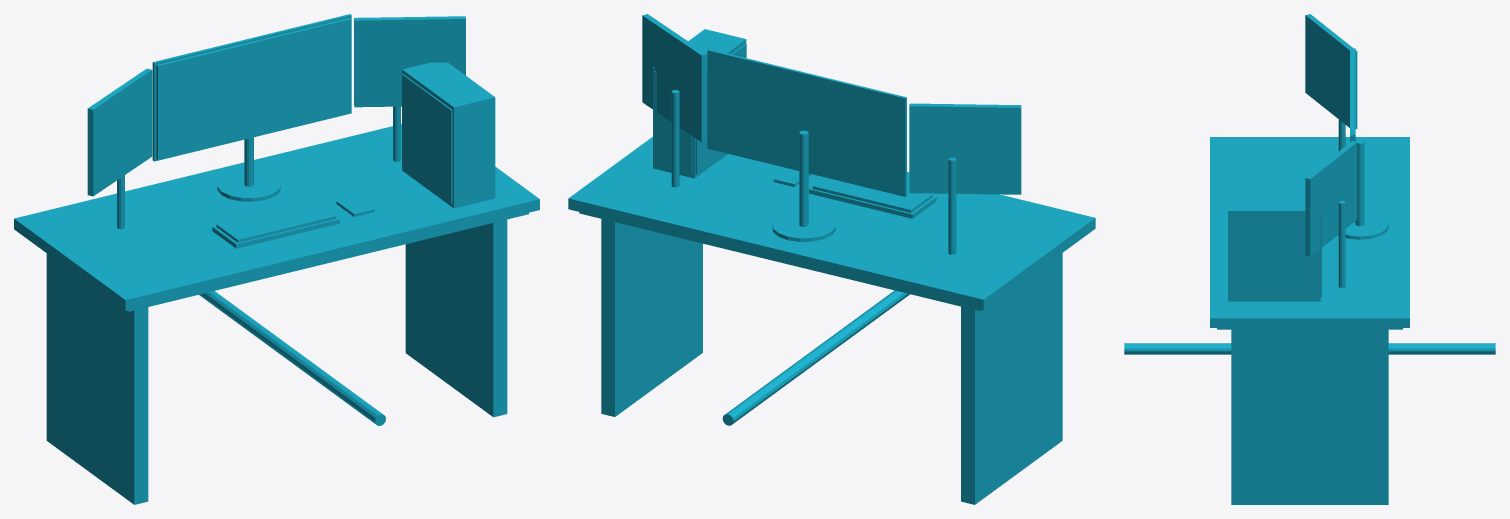
The model's file is developer-workspace.obj.
3 renders of one model, left to right at view 1: azimuth 30°, elevation 25°; view 2: azimuth 150°, elevation 25°; view 3: azimuth 270°, elevation 25°, orthographic. The views are drawn at different scales.
Visible parts, largest first — view 1: DeveloperWorkspace; view 2: DeveloperWorkspace; view 3: DeveloperWorkspace.
Part boxes in pixels (box(x1,y1,x2,y2)): DeveloperWorkspace: box(14, 14, 539, 504); DeveloperWorkspace: box(568, 14, 1095, 504); DeveloperWorkspace: box(1124, 14, 1495, 504).
Bounding box in the file's own units: 6 × 5.13 × 5.2.
